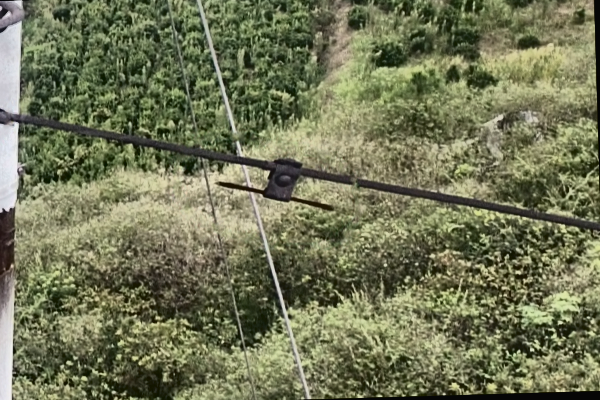damper_defect: (207, 154, 337, 214)
